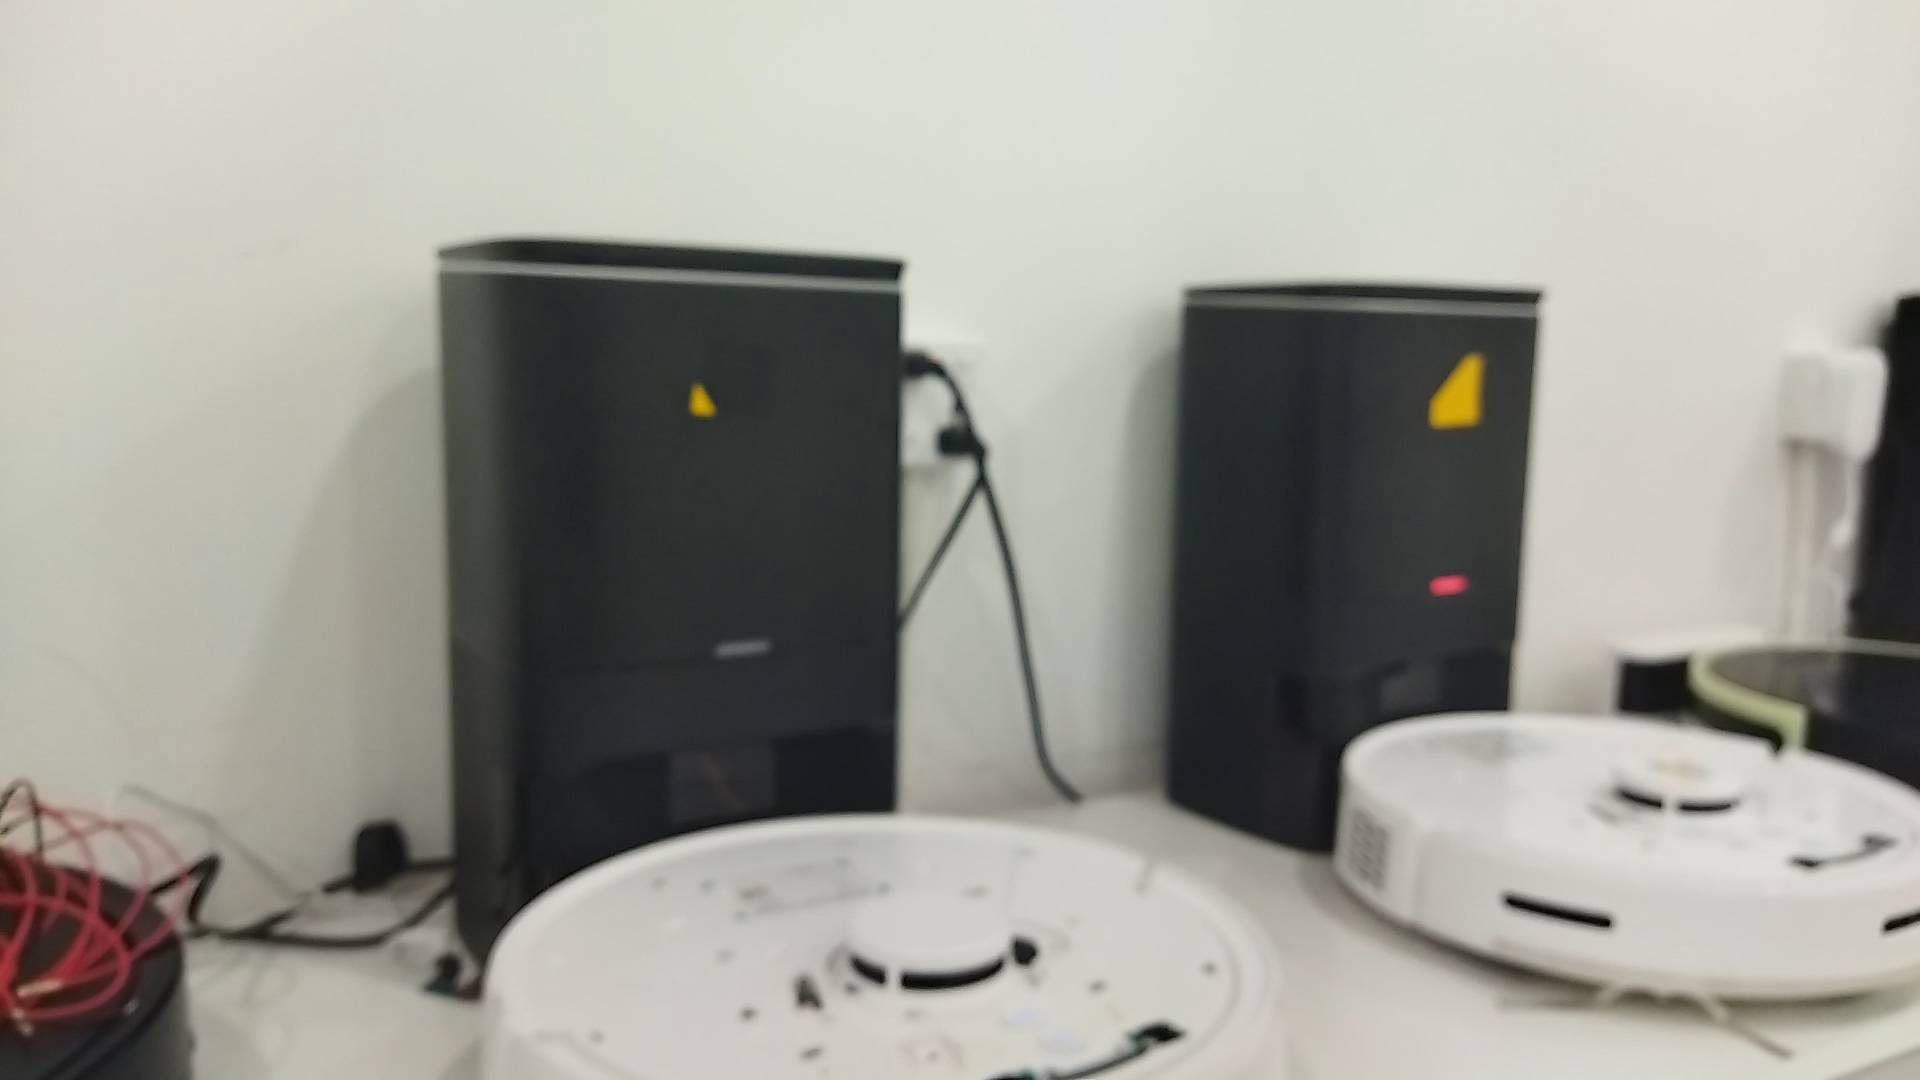dust collecting barrel: (439, 239, 905, 971), (1166, 286, 1544, 855)
